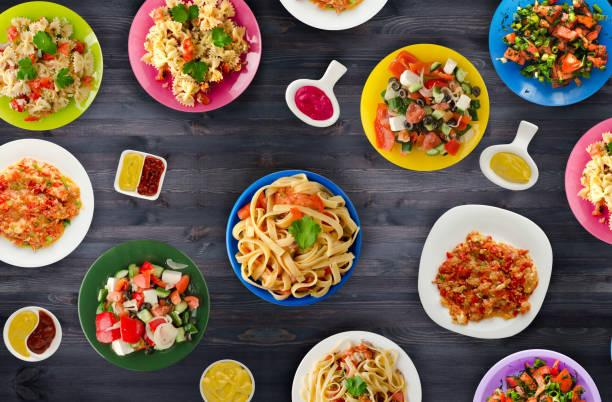Braised Crucian Carp: (418, 203, 556, 338), (226, 170, 359, 305), (77, 240, 208, 372), (360, 43, 488, 172), (128, 1, 259, 114), (488, 0, 612, 107), (1, 0, 103, 129), (1, 137, 96, 266), (289, 330, 420, 401)
